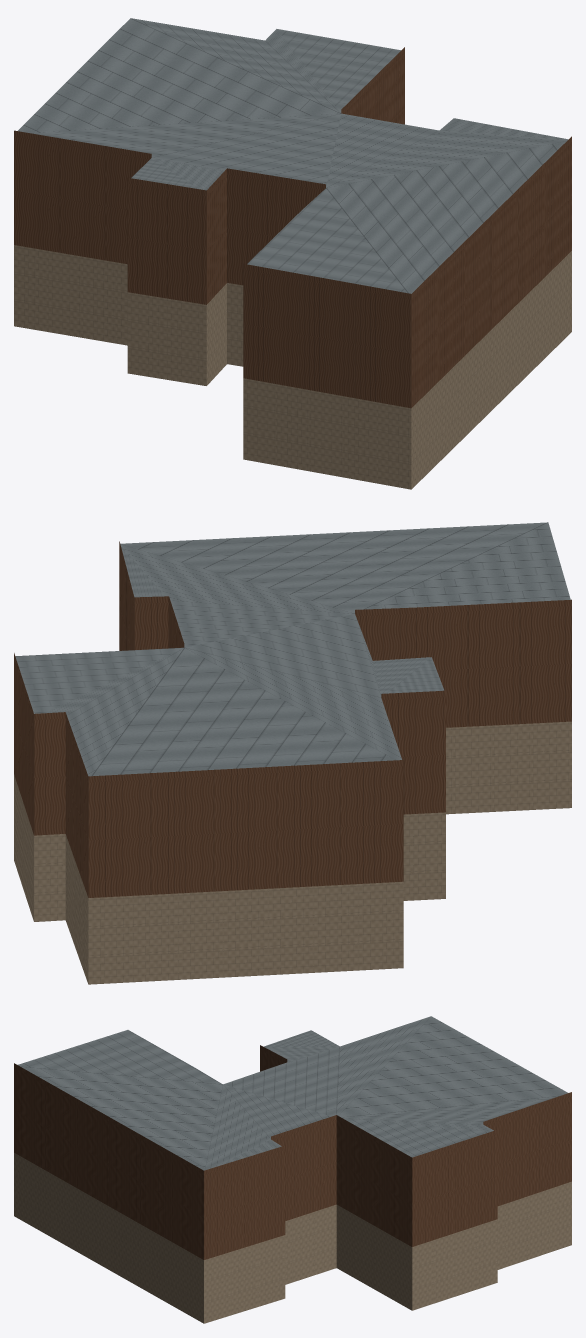
Rendered from core_0151.gltf.
3 views of the same model, one above another, from view 1: azimuth 30°, elevation 25°; view 2: azimuth 150°, elevation 25°; view 3: azimuth 270°, elevation 25° (orthographic). The views are drawn at different scales.
Parts seen in each view (by area): view 1: core_0151; view 2: core_0151; view 3: core_0151.
Boxes of the visible parts, box(x1,y1,x2,y2) form: core_0151: box(14, 18, 571, 489); core_0151: box(14, 522, 571, 984); core_0151: box(14, 1016, 571, 1323).
Bounding box in the file's own units: 27.09 × 12.28 × 40.55.
3 materials, 3 textured.
